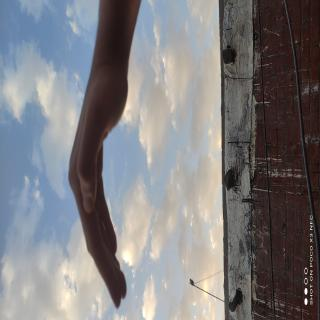HAA: (6, 134, 130, 320)
